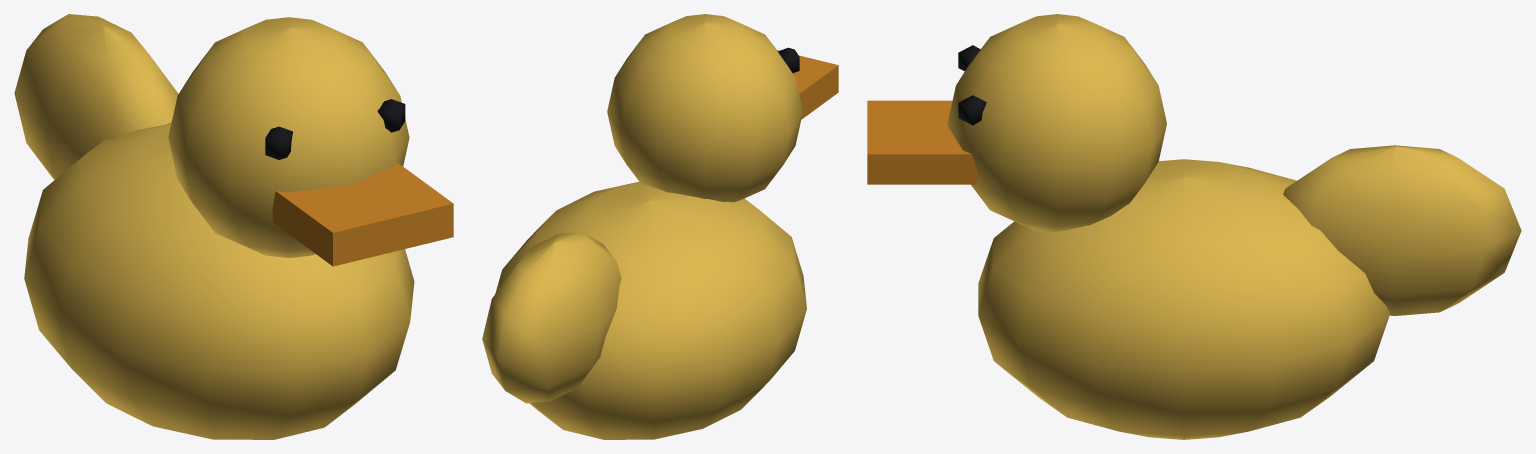
File: Rubber_duck.obj
3 views of the same model, side by side, from view 1: azimuth 30°, elevation 25°; view 2: azimuth 150°, elevation 25°; view 3: azimuth 270°, elevation 25° (orthographic). The views are drawn at different scales.
Parts seen in each view (by area): view 1: Rubber_duck; view 2: Rubber_duck; view 3: Rubber_duck.
Part boxes in pixels (left/top/right/bottom): Rubber_duck: left=14, top=14, right=453, bottom=439; Rubber_duck: left=482, top=14, right=838, bottom=439; Rubber_duck: left=867, top=14, right=1521, bottom=439.
Bounding box in the file's own units: 0.08 × 0.104 × 0.155.
